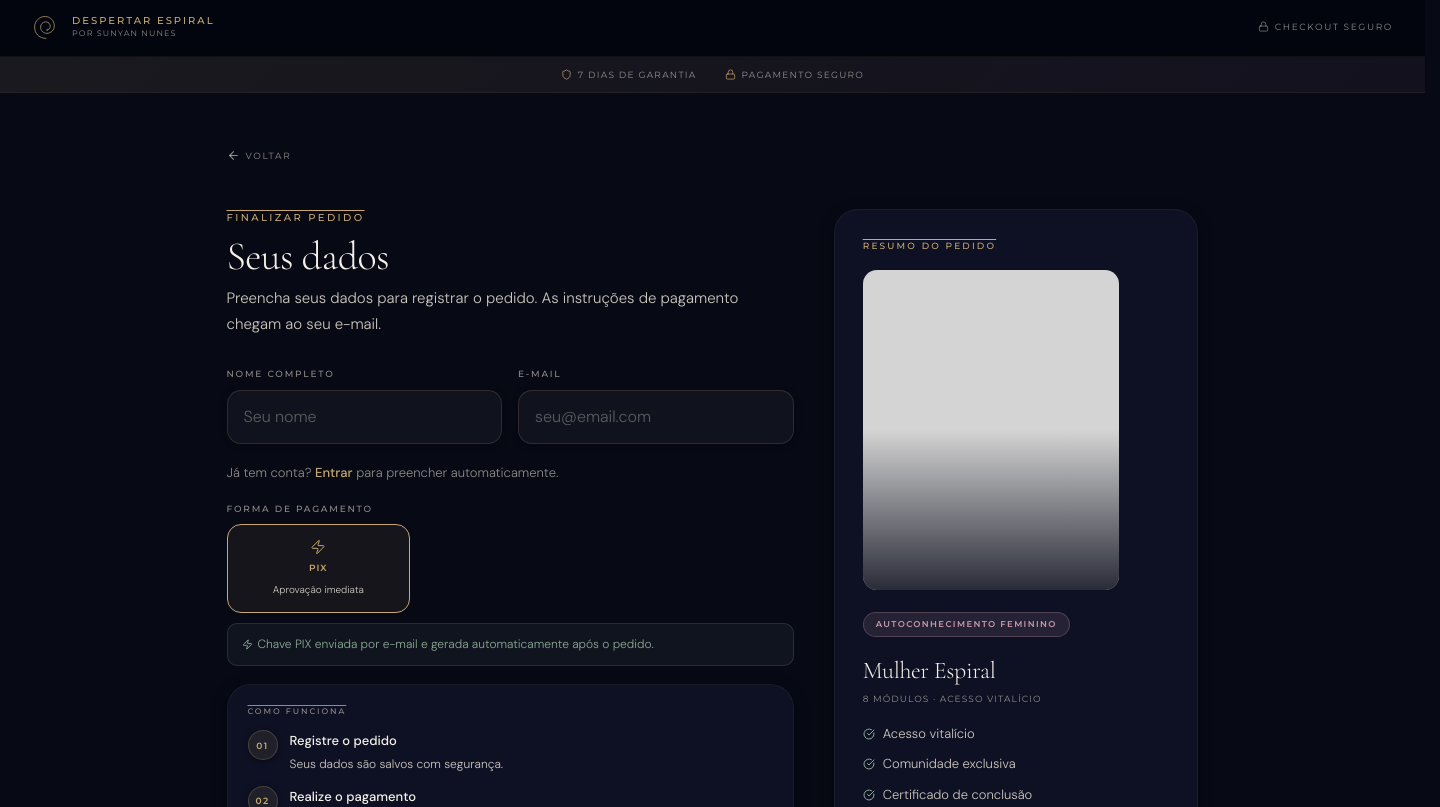
Test: CheckoutPage — form validation › shows 'E-mail inválido' error for malformed email
Type "Ana Silva" into the field with placeholder "Seu nome" at [364, 416], box [226,390,502,444]
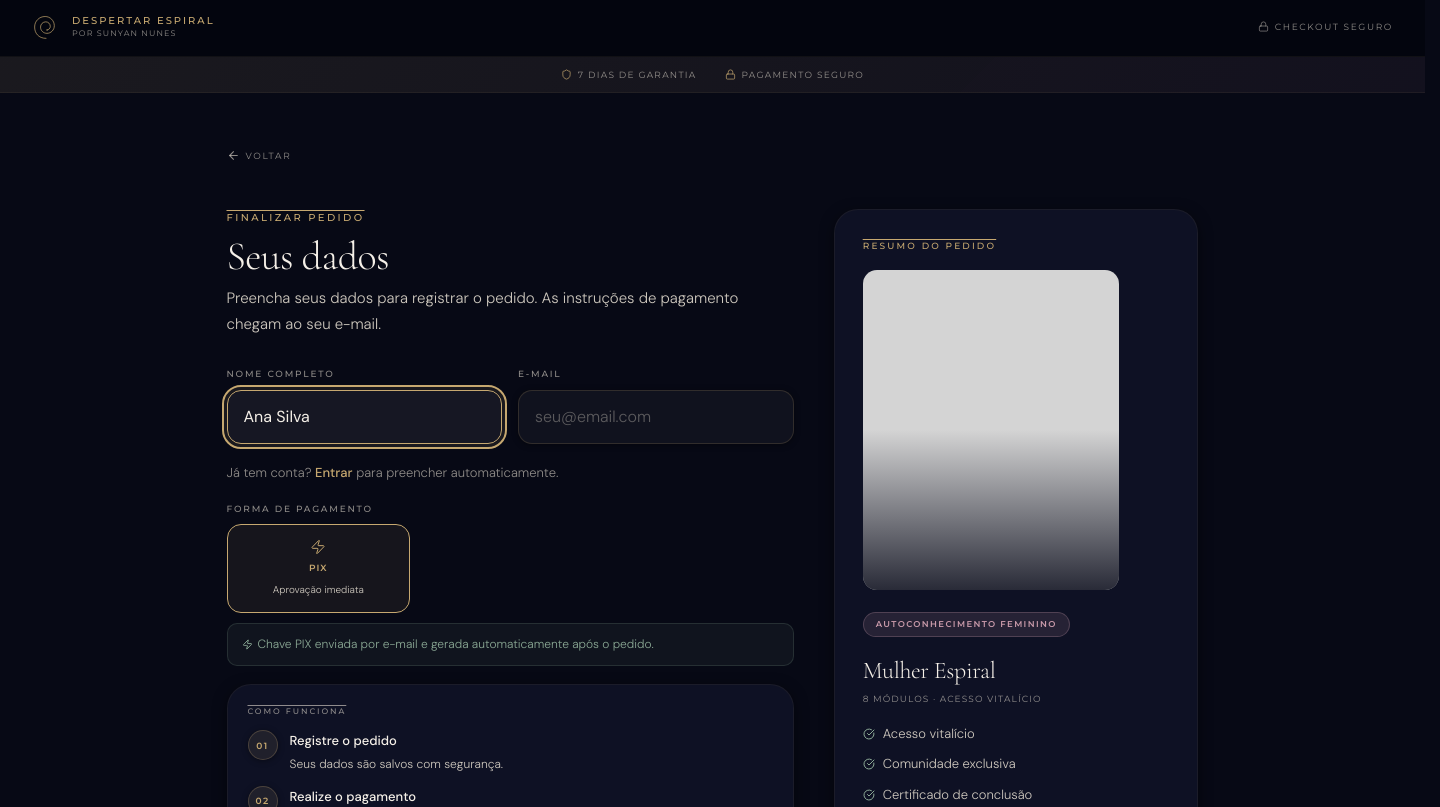
Type "not-an-email" into the field with placeholder "seu@email.com" at [656, 416], box [518,390,794,444]
(page scrolled)
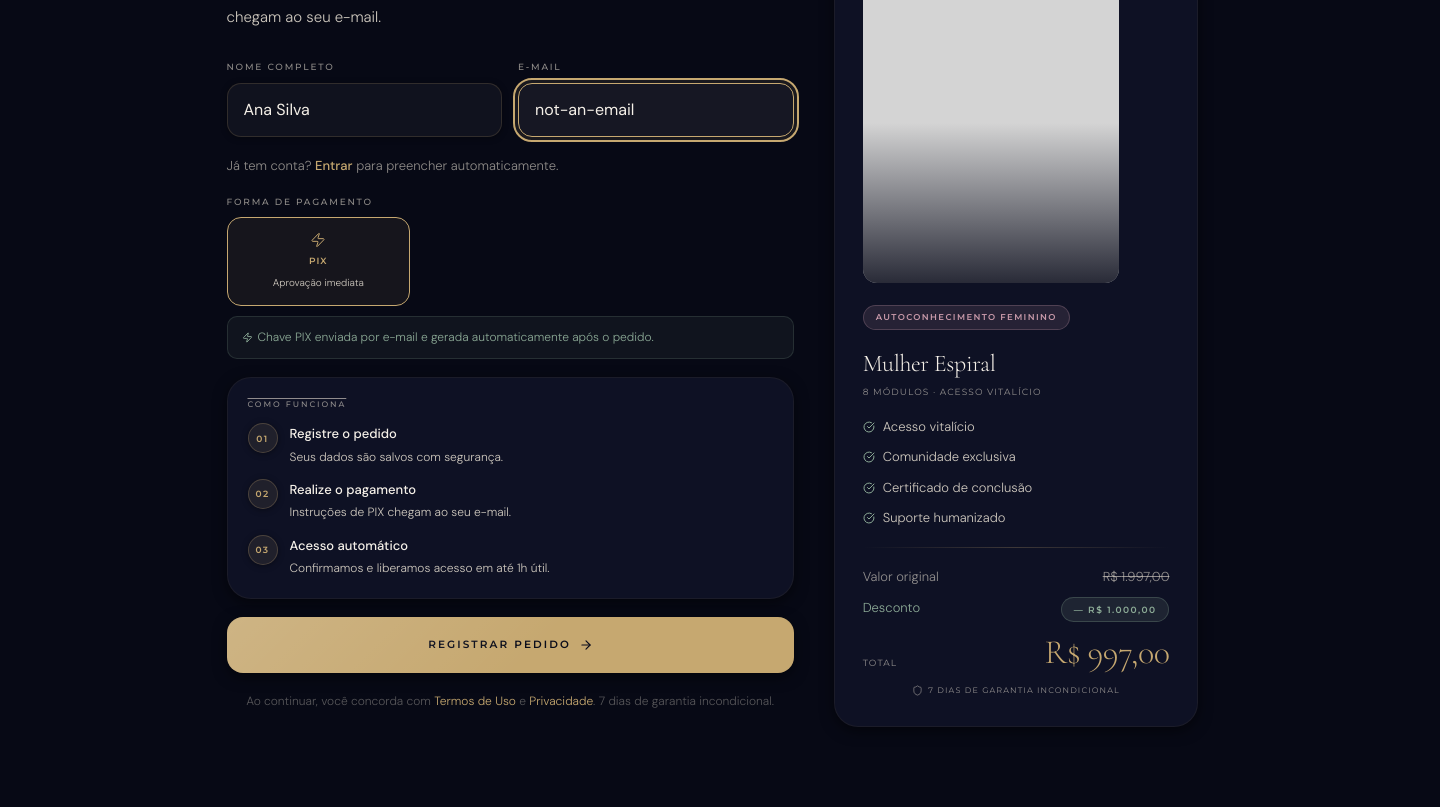
Click the button "Registrar pedido" at [510, 645], box [226,617,794,673]
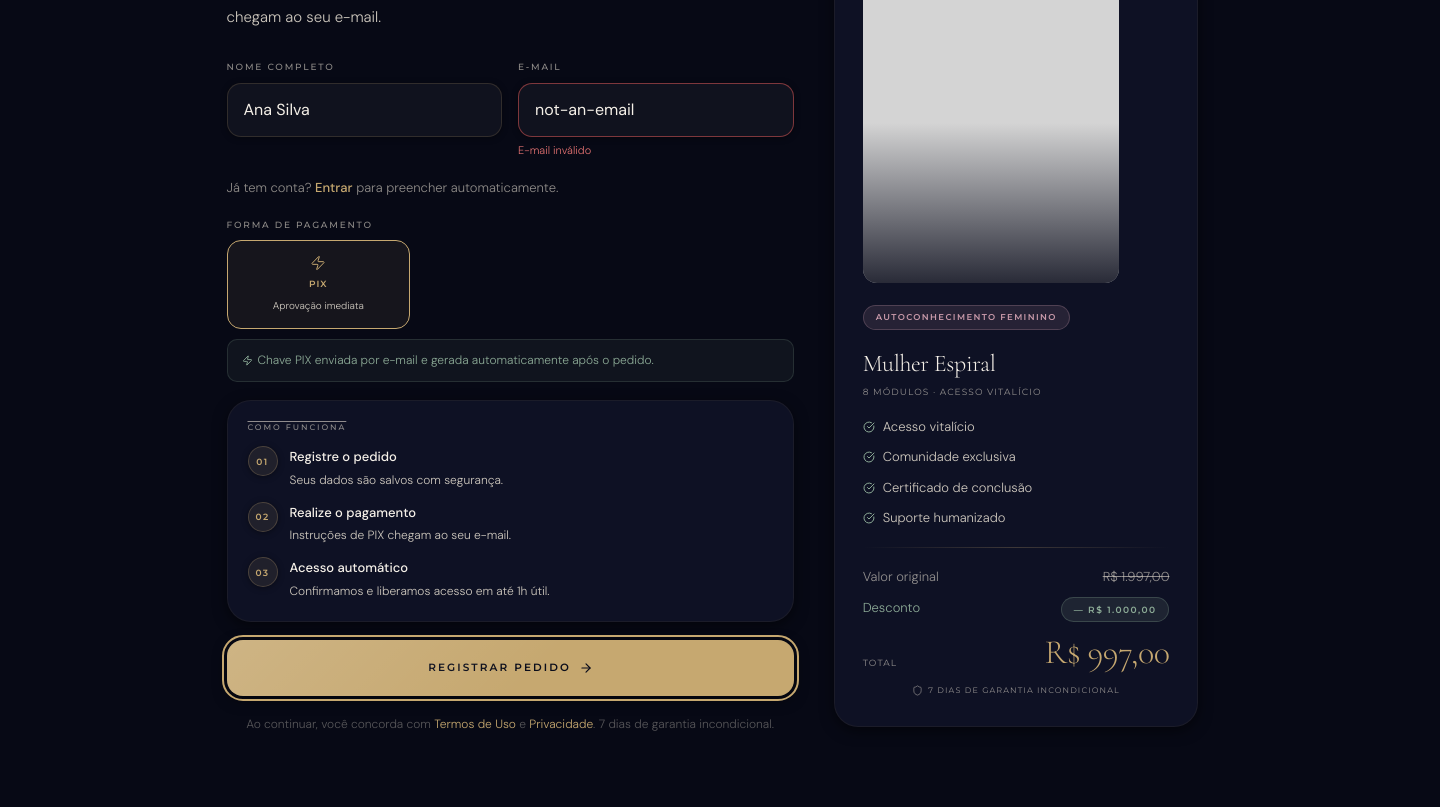
Expected: the text "E-mail inválido" is shown, [518,142,591,156]
